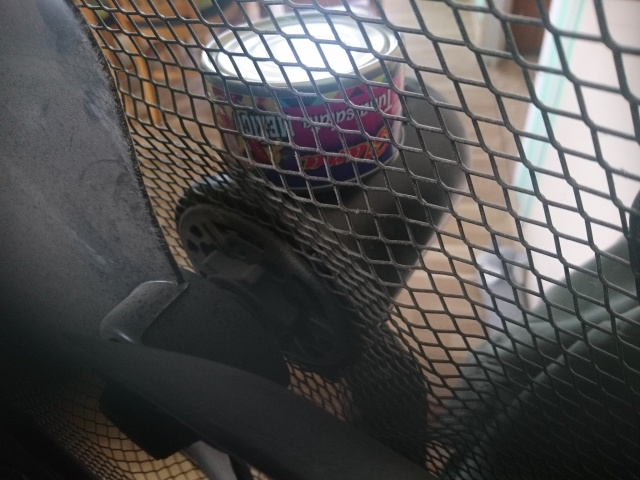Giana Tuna Salad Mexico 185g: (196, 6, 408, 195)
